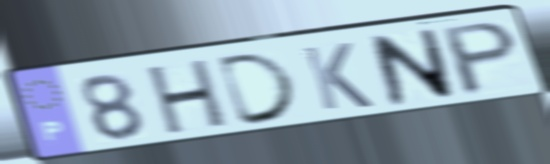8: (79, 71, 148, 143)
D: (214, 49, 303, 130)
H: (145, 55, 232, 139)
K: (298, 40, 377, 113)
N: (366, 26, 459, 109)
P: (440, 18, 521, 100)
